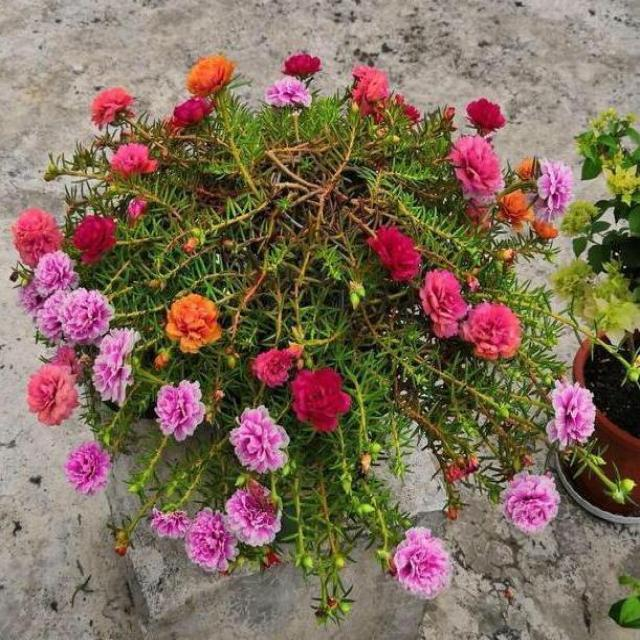organic waste: (381, 516, 460, 608), (489, 464, 564, 540), (223, 478, 294, 552), (287, 367, 362, 431), (466, 290, 528, 363), (360, 221, 427, 287), (160, 287, 228, 351), (183, 512, 245, 581), (537, 377, 597, 448), (237, 399, 294, 472), (456, 145, 507, 216), (53, 286, 124, 335), (102, 328, 142, 411), (57, 433, 112, 492), (26, 252, 90, 302), (529, 152, 575, 221), (79, 81, 143, 129), (428, 270, 474, 336), (164, 384, 208, 448), (178, 56, 242, 100), (41, 292, 86, 351), (459, 93, 510, 142), (143, 502, 197, 540), (254, 340, 302, 380), (264, 78, 315, 115), (174, 98, 222, 137), (104, 139, 158, 172), (280, 47, 326, 77)
